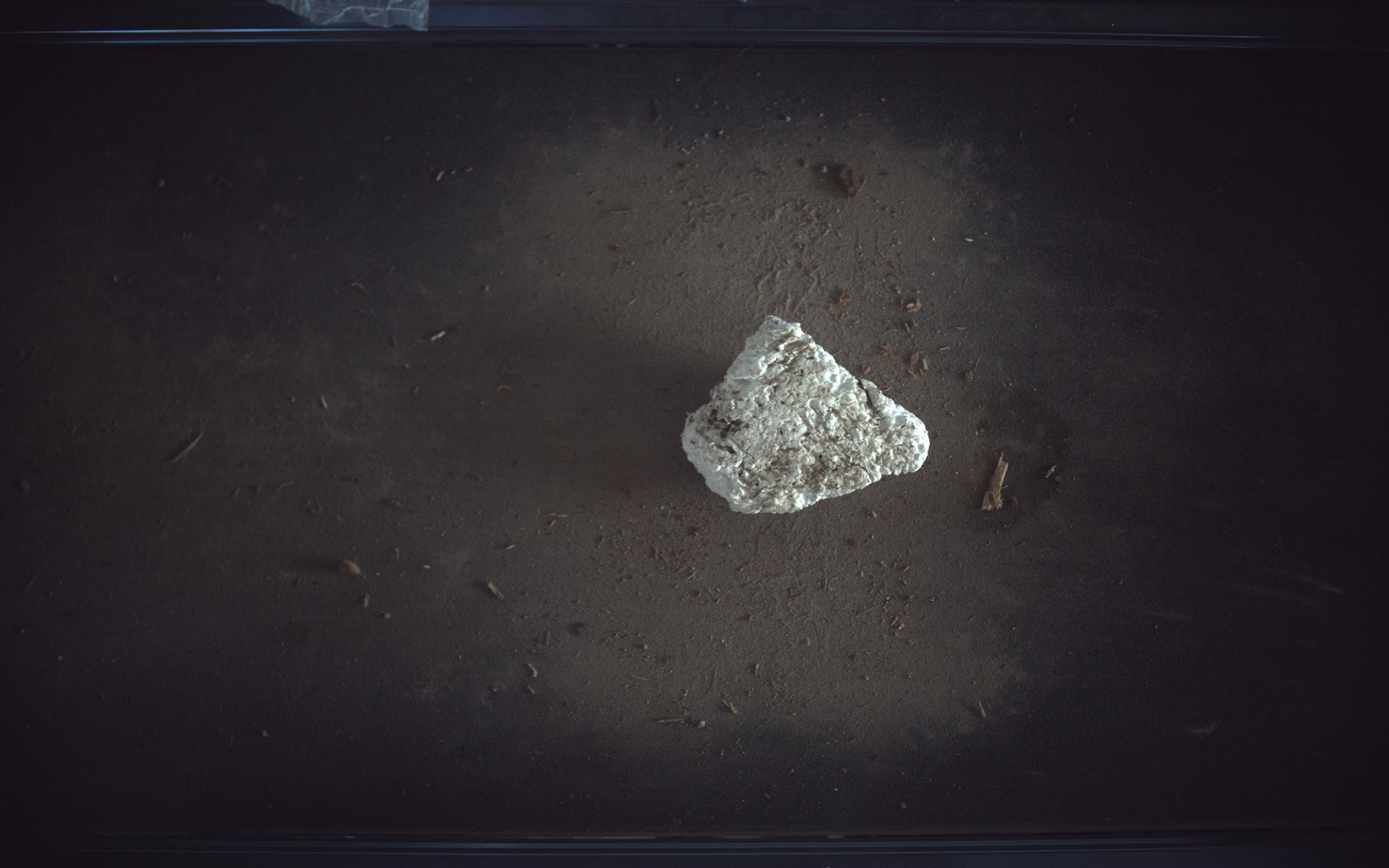foam: (683, 315, 932, 514)
